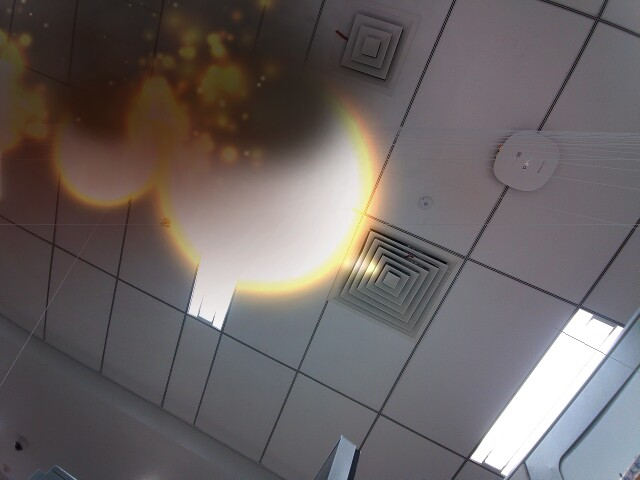fire: (168, 72, 379, 305), (51, 101, 159, 206)
